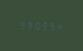five: (50, 20, 57, 31)
four: (58, 20, 65, 32)
nine: (17, 18, 24, 30), (25, 19, 32, 30), (42, 20, 49, 31)
zero: (34, 19, 41, 30)
